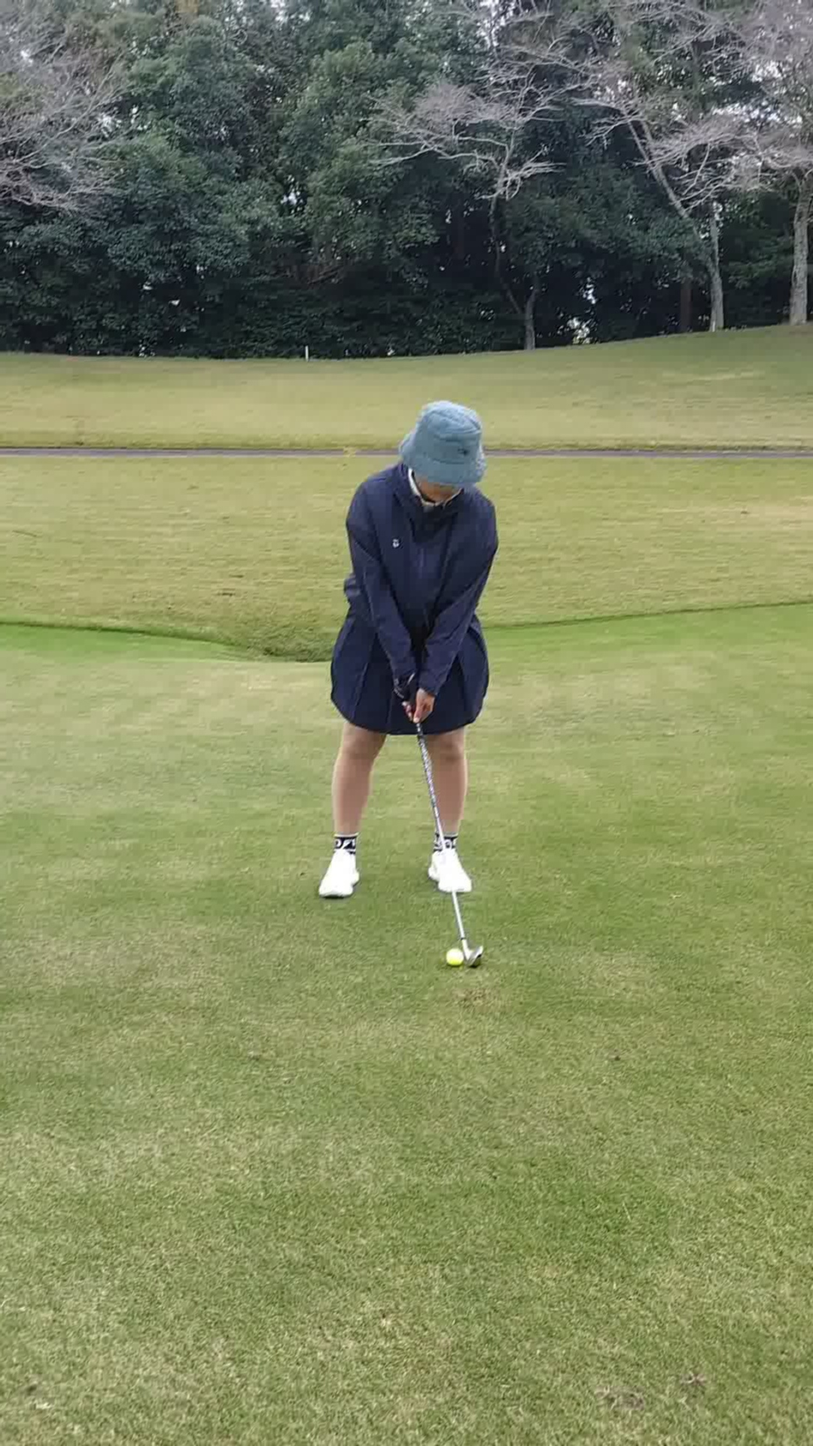clubhead: (364, 892, 564, 1042)
